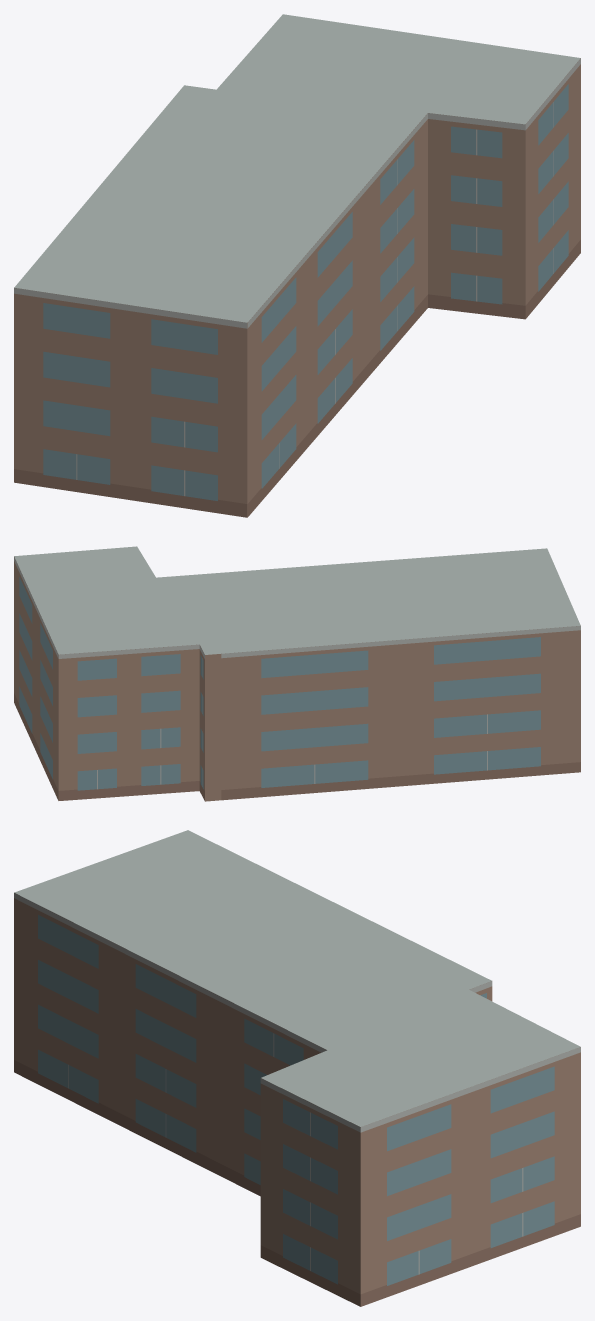
The model's file is survey-upis-32984623.glb.
The picture shows the model from 3 angles, top to bottom: view 1: azimuth 30°, elevation 25°; view 2: azimuth 150°, elevation 25°; view 3: azimuth 270°, elevation 25°; orthographic projection. The views are drawn at different scales.
Parts seen in each view (by area): view 1: survey-upis-32984623.tmp; view 2: survey-upis-32984623.tmp; view 3: survey-upis-32984623.tmp.
Part boxes in pixels (x1,y1,x2,y2): survey-upis-32984623.tmp: (14, 14, 580, 517); survey-upis-32984623.tmp: (14, 546, 580, 801); survey-upis-32984623.tmp: (14, 830, 580, 1306).
Bounding box in the file's own units: 28.28 × 7.97 × 22.8.
